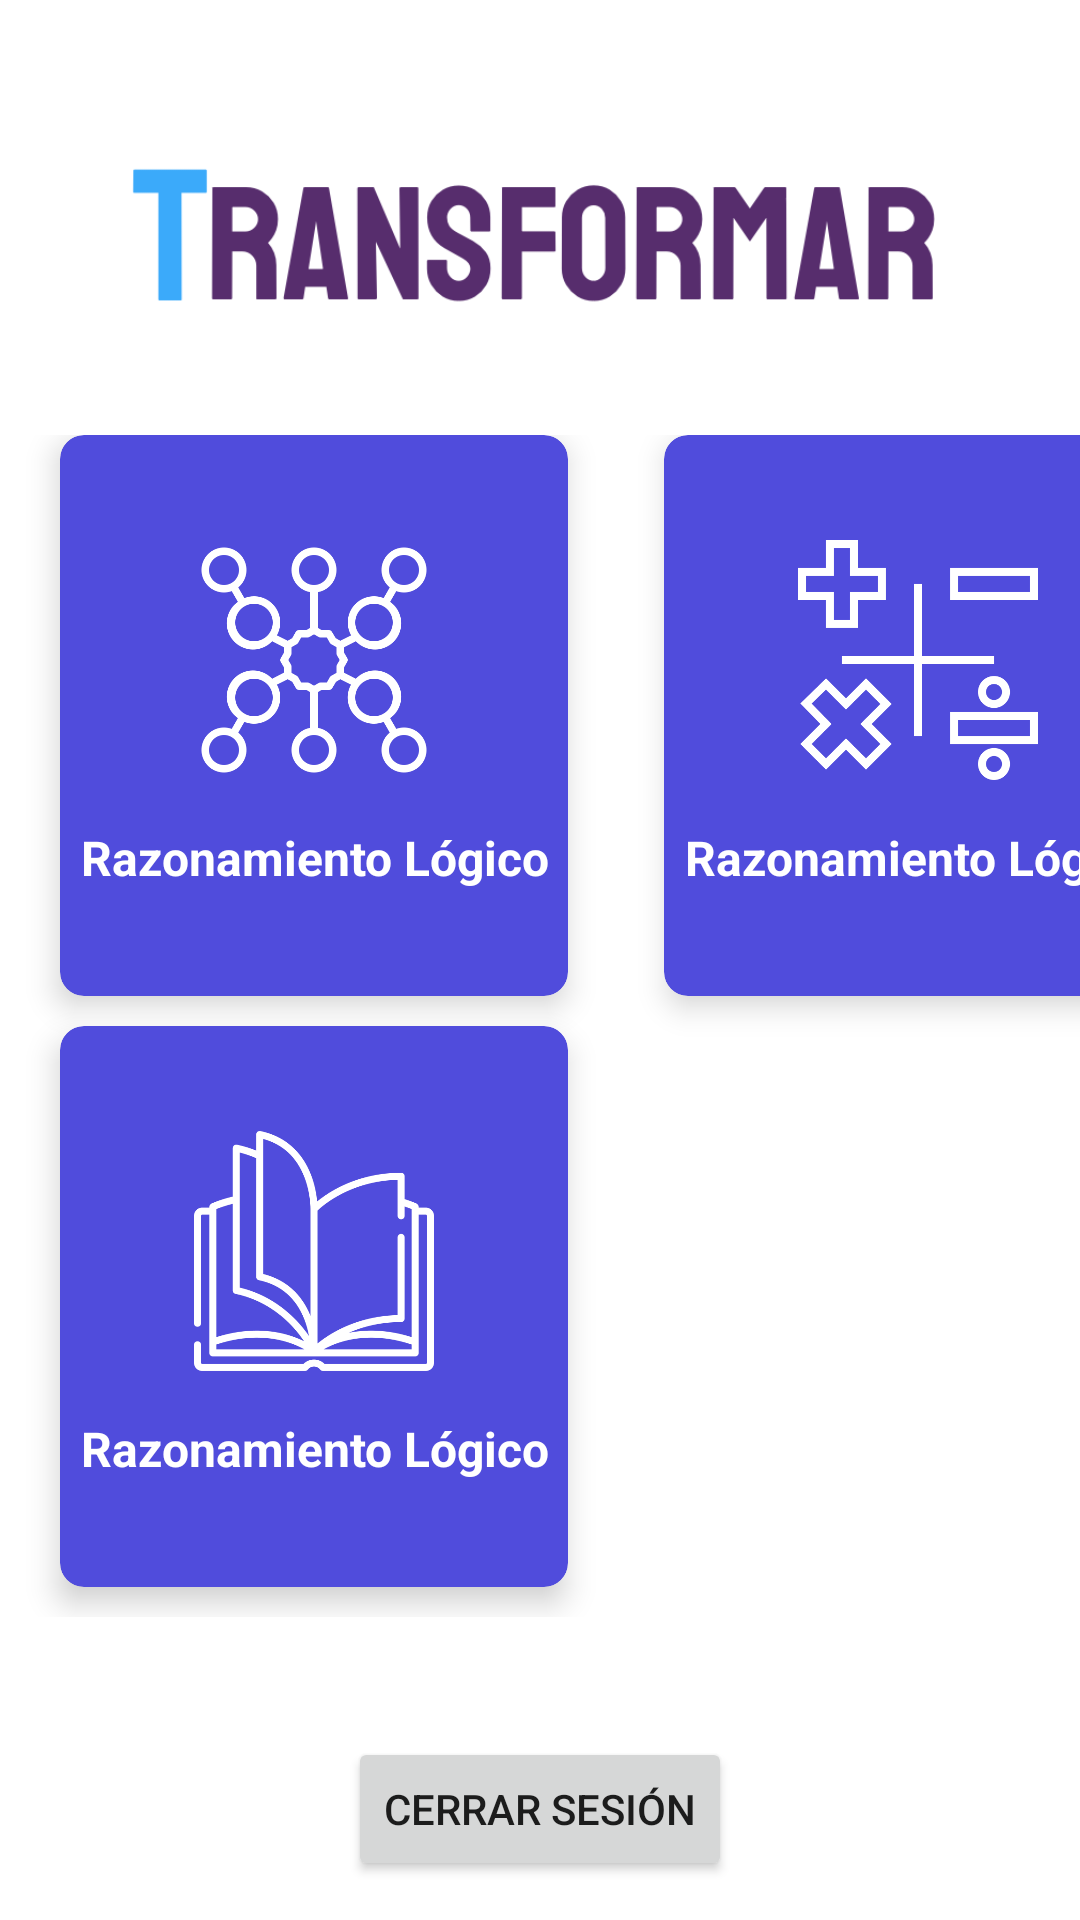

Where icons sit on this 1080 x 1920 app screen, as {"left": x1, "top": y1, "right": x2, "bottom": y2}:
numerico: {"left": 798, "top": 540, "right": 1038, "bottom": 780}
verbal: {"left": 194, "top": 1131, "right": 434, "bottom": 1371}
